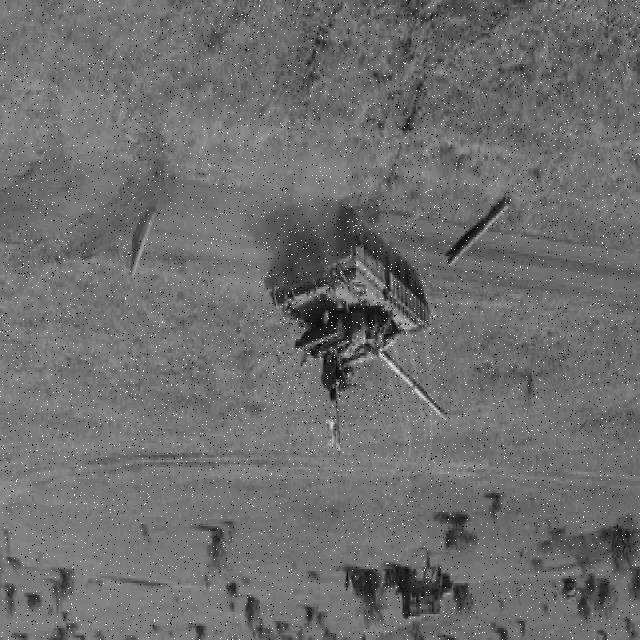MIL_MBT: (264, 208, 447, 423)
